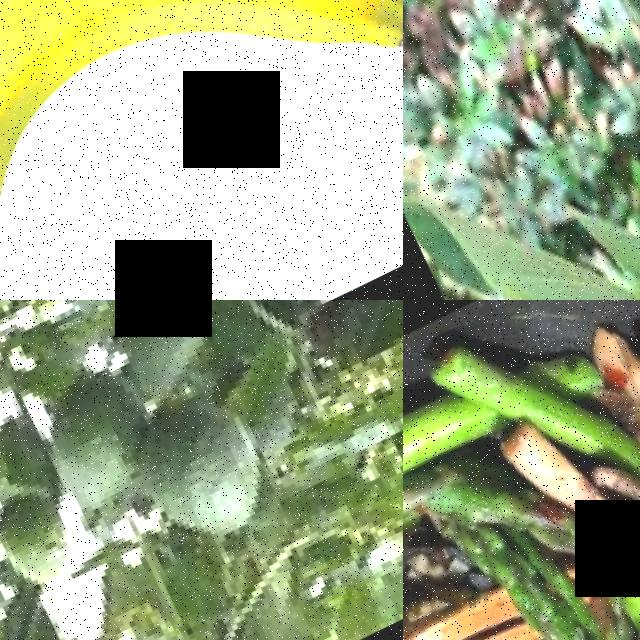asparagus: (432, 493, 640, 640)
avocado: (114, 372, 306, 574), (25, 360, 182, 528), (81, 300, 263, 423), (524, 0, 640, 172), (0, 474, 103, 612)
banana: (0, 0, 403, 300)
